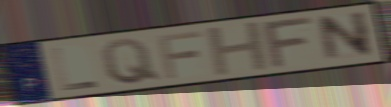F: (261, 14, 316, 71), (155, 29, 205, 81)
H: (204, 19, 273, 79)
L: (50, 45, 101, 93)
N: (316, 9, 376, 64)
Q: (99, 37, 163, 86)
